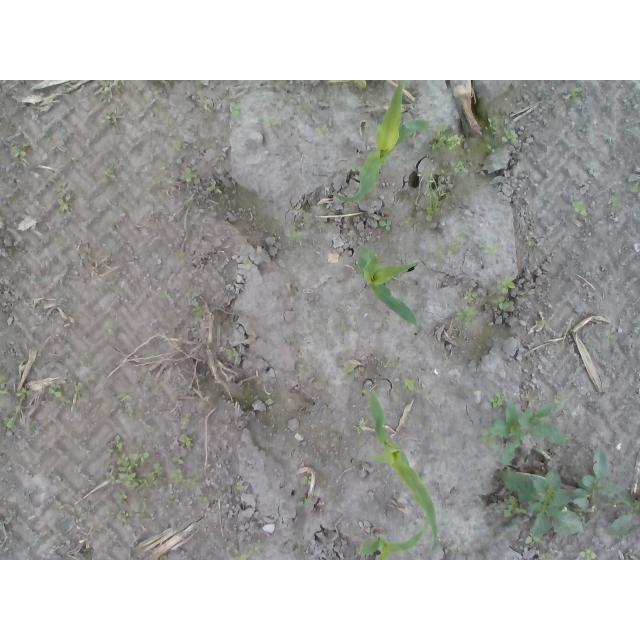Maize: (335, 82, 433, 203), (369, 388, 439, 552), (357, 243, 420, 326), (360, 514, 432, 560)
Weeds: (496, 447, 640, 545), (483, 389, 570, 467), (110, 447, 162, 489), (413, 168, 451, 224), (431, 122, 472, 155), (486, 276, 515, 313), (431, 230, 465, 260), (454, 307, 481, 330), (226, 544, 262, 561), (100, 159, 117, 186), (102, 81, 126, 100), (57, 184, 72, 212), (171, 467, 194, 485), (500, 127, 521, 145), (0, 387, 32, 398), (191, 298, 207, 319), (110, 432, 124, 456), (177, 433, 195, 449), (483, 116, 497, 136), (206, 179, 223, 195), (571, 200, 588, 216), (479, 243, 498, 256), (10, 145, 26, 160), (3, 415, 18, 431), (451, 160, 465, 177), (112, 491, 129, 505), (579, 548, 597, 561), (401, 378, 416, 393), (462, 290, 478, 304), (222, 347, 238, 361), (229, 100, 240, 120), (286, 228, 304, 240), (135, 495, 147, 513), (48, 383, 63, 397), (180, 168, 193, 184), (378, 220, 394, 232), (316, 126, 330, 138), (111, 511, 129, 520), (176, 252, 188, 265), (100, 111, 112, 124), (112, 392, 129, 401), (440, 433, 450, 448), (570, 87, 582, 99), (344, 368, 356, 380), (74, 384, 82, 401), (539, 552, 554, 560), (160, 290, 173, 299), (609, 197, 620, 207), (486, 143, 496, 154), (179, 415, 190, 425), (0, 371, 8, 384), (336, 319, 346, 329), (151, 176, 162, 185), (352, 424, 364, 432), (411, 84, 418, 97), (630, 184, 640, 193), (304, 475, 313, 485), (173, 456, 183, 465), (297, 500, 306, 509), (383, 360, 393, 368), (196, 80, 209, 86), (128, 406, 135, 417), (264, 116, 272, 125), (175, 139, 181, 151), (250, 392, 258, 400), (64, 400, 72, 408), (606, 333, 614, 340), (362, 389, 370, 396), (14, 400, 20, 409), (400, 527, 407, 534), (385, 316, 392, 321), (366, 300, 374, 304), (528, 240, 532, 245)
